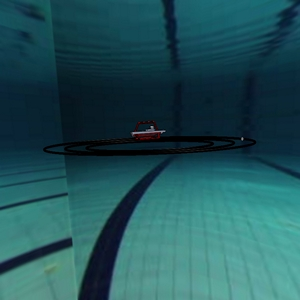circle: (35, 107, 267, 180)
submarine: (123, 115, 170, 147)
